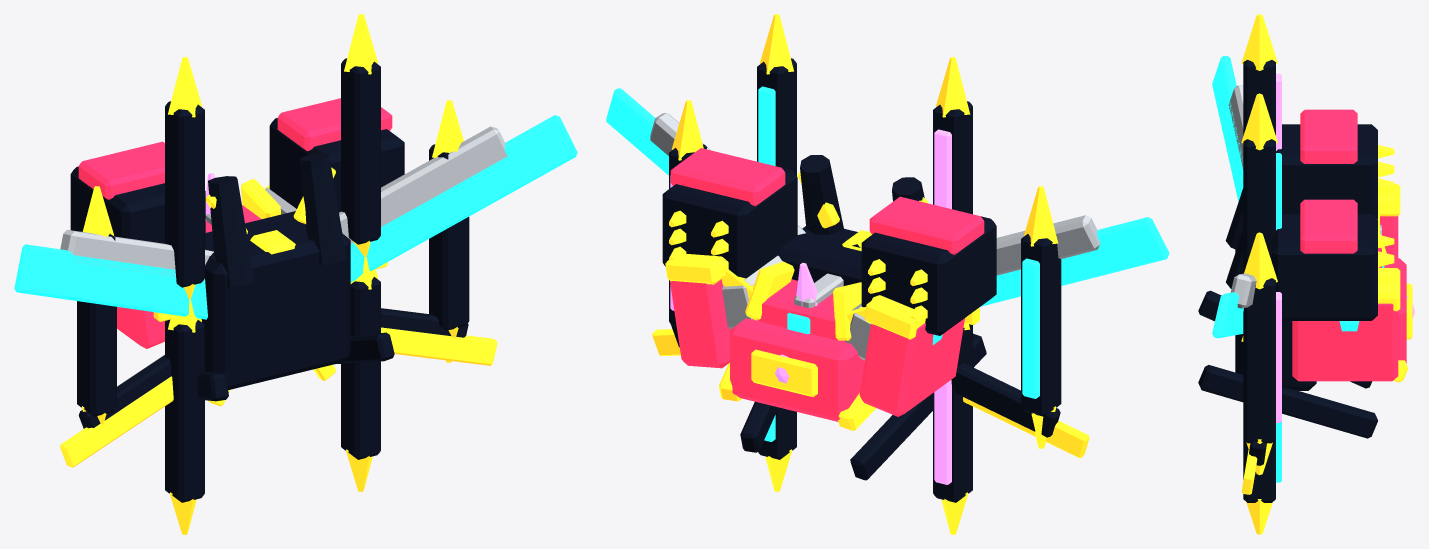
Rendered from mech_armory.glb.
3 renders of one model, left to right at view 1: azimuth 30°, elevation 25°; view 2: azimuth 150°, elevation 25°; view 3: azimuth 270°, elevation 25°, orthographic. The views are drawn at different scales.
Visible parts, largest first — view 1: A_Backpack, SWU_Blade_R, SWU_Blade_L, NF_Body_1, NF_Body_2, NF_Body_4, NF_Body_5, SWU_Frame_R, NF_Body_3, NF_Body_0, AP_Box_R, AP_Box_L (+18 smaller); view 2: AP_Box_L, AP_Box_R, A_ChestPlate, A_Shield_-1, SWU_Blade_L, NF_Body_3, A_Shield_1, AP_Cap_R, AP_Cap_L, A_Backpack, NF_Body_4, SWL_Frame_L (+28 smaller); view 3: AP_Box_R, A_Shield_1, AP_Box_L, NF_Body_0, S_Sheath_1, NF_Body_1, AP_Cap_L, AP_Cap_R, SWU_Blade_L, NF_Body_2, A_Backpack, NF_Body_5 (+21 smaller).
Boxes of the visible parts, x1=… form: A_Backpack: x1=201, y1=211, x2=350, y2=389; SWU_Blade_R: x1=350, y1=115, x2=577, y2=282; SWU_Blade_L: x1=14, y1=244, x2=207, y2=319; NF_Body_1: x1=341, y1=58, x2=380, y2=244; NF_Body_2: x1=165, y1=101, x2=204, y2=287; NF_Body_4: x1=165, y1=319, x2=204, y2=502; NF_Body_5: x1=341, y1=277, x2=380, y2=459; SWU_Frame_R: x1=339, y1=126, x2=507, y2=243; NF_Body_3: x1=77, y1=230, x2=116, y2=416; NF_Body_0: x1=429, y1=144, x2=469, y2=330; AP_Box_R: x1=269, y1=118, x2=404, y2=212; AP_Box_L: x1=70, y1=166, x2=205, y2=249; AP_Box_L: x1=861, y1=216, x2=996, y2=335; AP_Box_R: x1=662, y1=168, x2=797, y2=278; A_ChestPlate: x1=730, y1=318, x2=864, y2=421; A_Shield_-1: x1=859, y1=318, x2=964, y2=416; SWU_Blade_L: x1=981, y1=217, x2=1169, y2=306; NF_Body_3: x1=1021, y1=234, x2=1061, y2=416; A_Shield_1: x1=670, y1=279, x2=730, y2=368; AP_Cap_R: x1=670, y1=148, x2=785, y2=206; AP_Cap_L: x1=869, y1=196, x2=984, y2=254; A_Backpack: x1=778, y1=226, x2=861, y2=285; NF_Body_4: x1=933, y1=324, x2=972, y2=502; SWL_Frame_L: x1=951, y1=363, x2=1060, y2=437; AP_Box_R: x1=1272, y1=214, x2=1377, y2=320; A_Shield_1: x1=1292, y1=303, x2=1398, y2=381; AP_Box_L: x1=1276, y1=124, x2=1377, y2=218; NF_Body_0: x1=1243, y1=278, x2=1275, y2=443; S_Sheath_1: x1=1198, y1=365, x2=1377, y2=438; NF_Body_1: x1=1243, y1=139, x2=1275, y2=273; AP_Cap_L: x1=1300, y1=109, x2=1357, y2=163; AP_Cap_R: x1=1300, y1=199, x2=1357, y2=253; SWU_Blade_L: x1=1212, y1=56, x2=1243, y2=201; NF_Body_2: x1=1243, y1=60, x2=1275, y2=135; A_Backpack: x1=1235, y1=231, x2=1316, y2=390; NF_Body_5: x1=1243, y1=440, x2=1275, y2=502.
Size of the model in its own units: 2.94 by 2.37 by 1.06.
